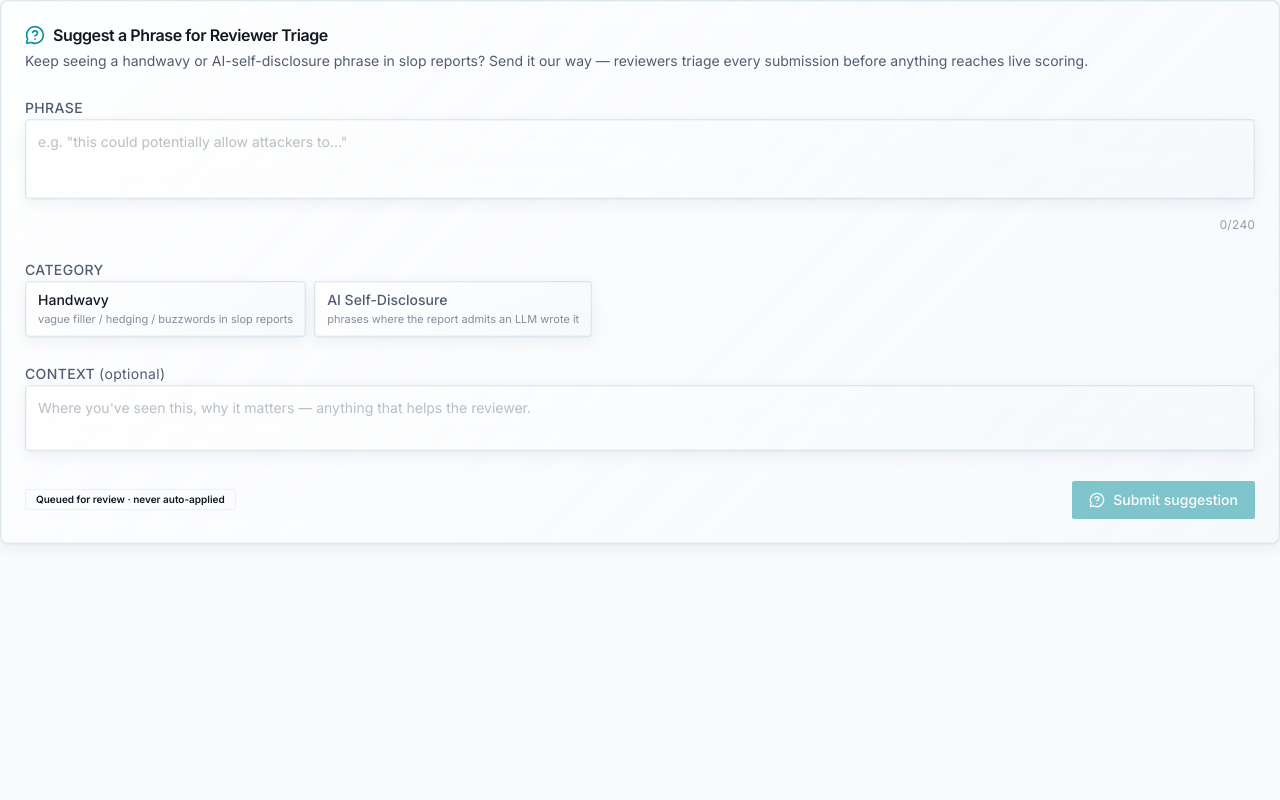
Test: PhraseSuggestionForm › submits the trimmed text + selected category and renders the thank-you panel on success
Type "  leverages cutting-edge synergy  " into the text box with test id "phrase-suggestion-text" at (640, 159), box left=25, top=119, right=1255, bottom=199
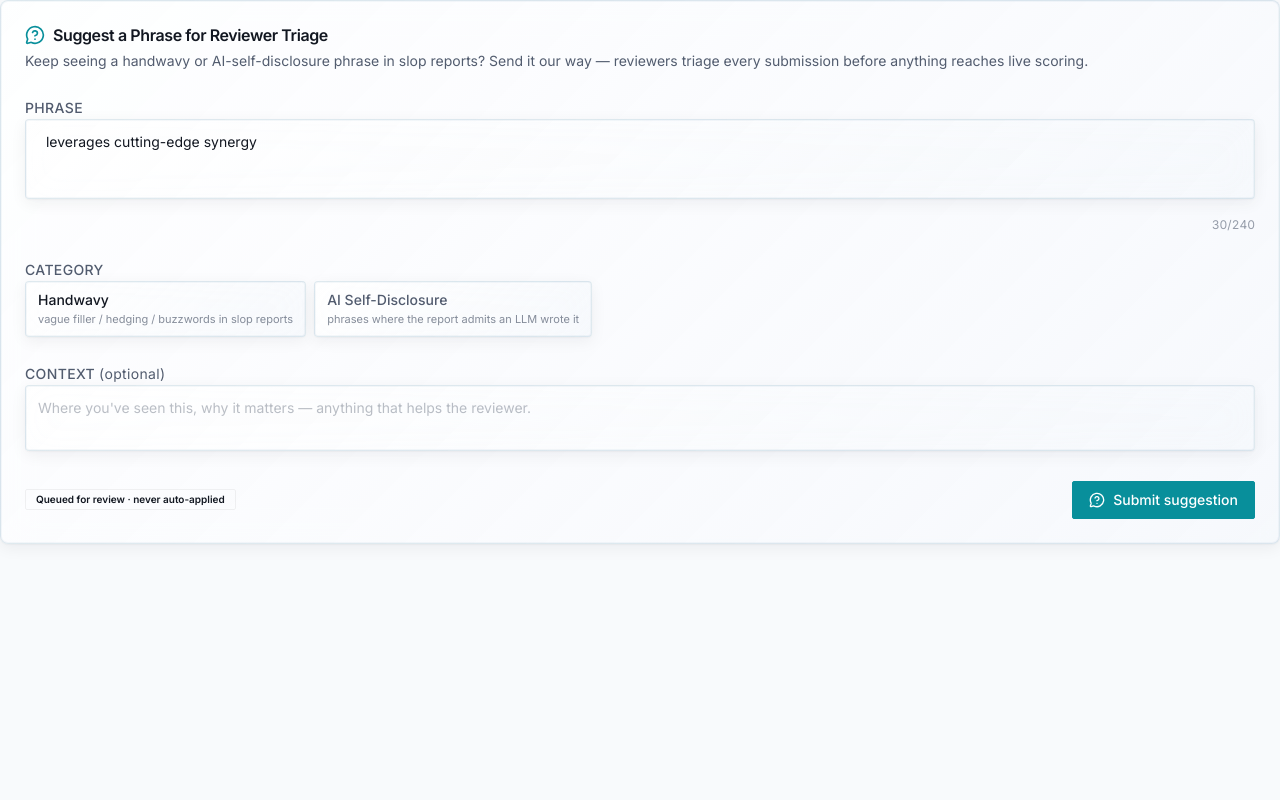
Click the button with test id "phrase-suggestion-category-ai-self-disclosure" at (387, 300), box left=314, top=281, right=592, bottom=337
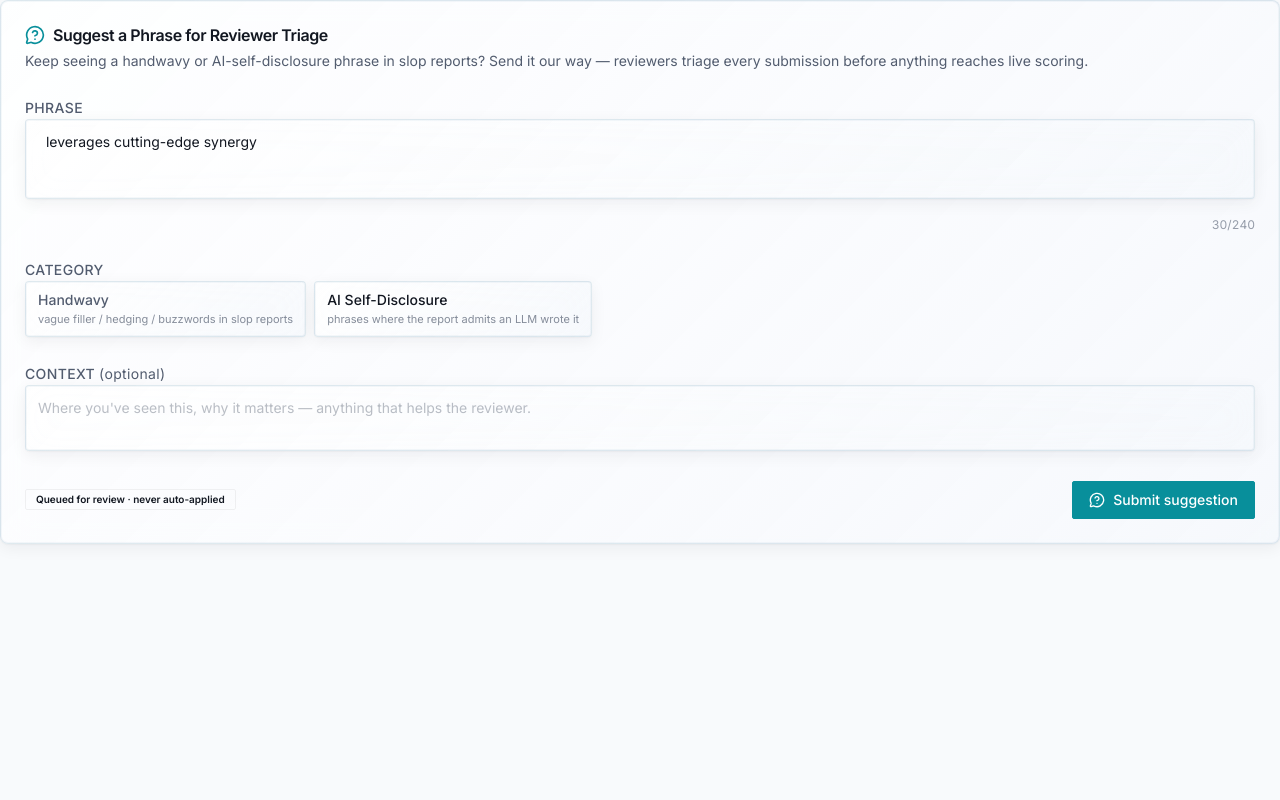
Replace the text in the text box with test id "phrase-suggestion-context" with "saw it in three reports" at (640, 418), box left=25, top=385, right=1255, bottom=451
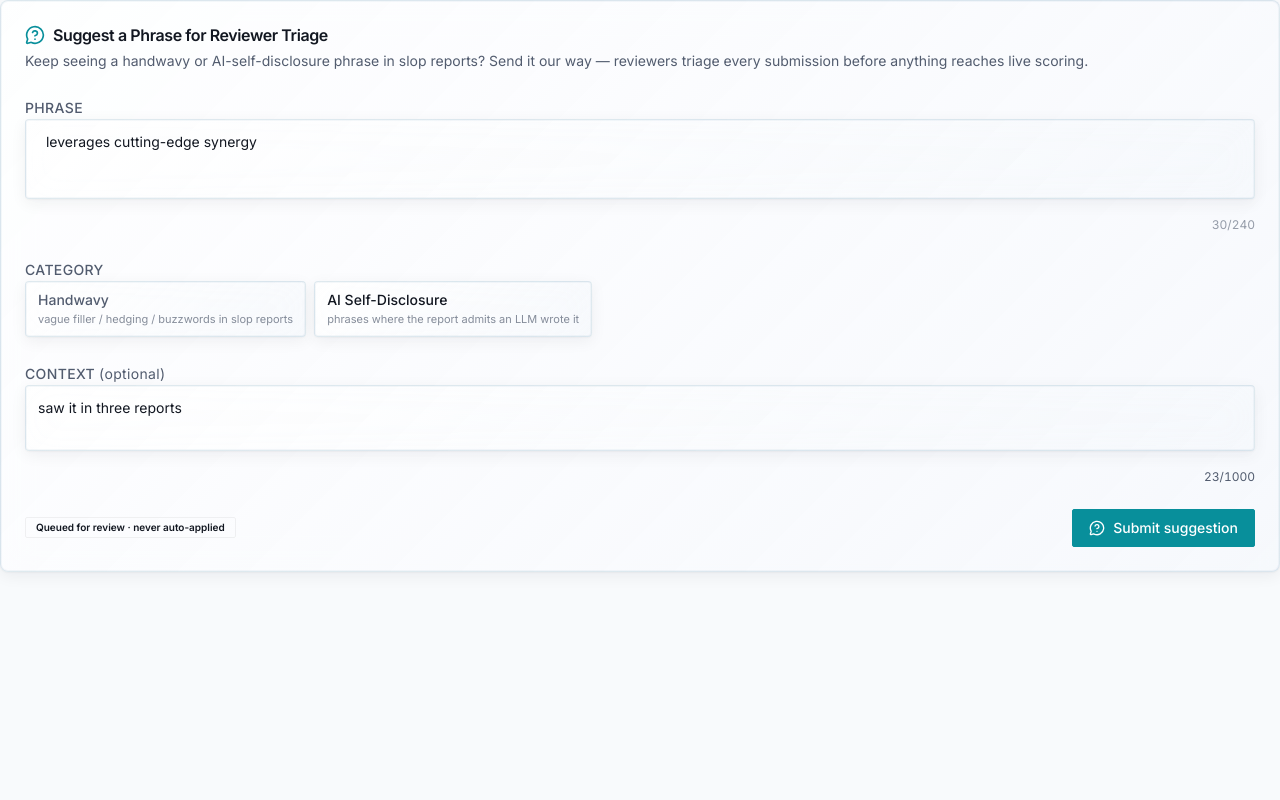
Click the button with test id "phrase-suggestion-submit" at (1164, 528), box left=1072, top=509, right=1255, bottom=547
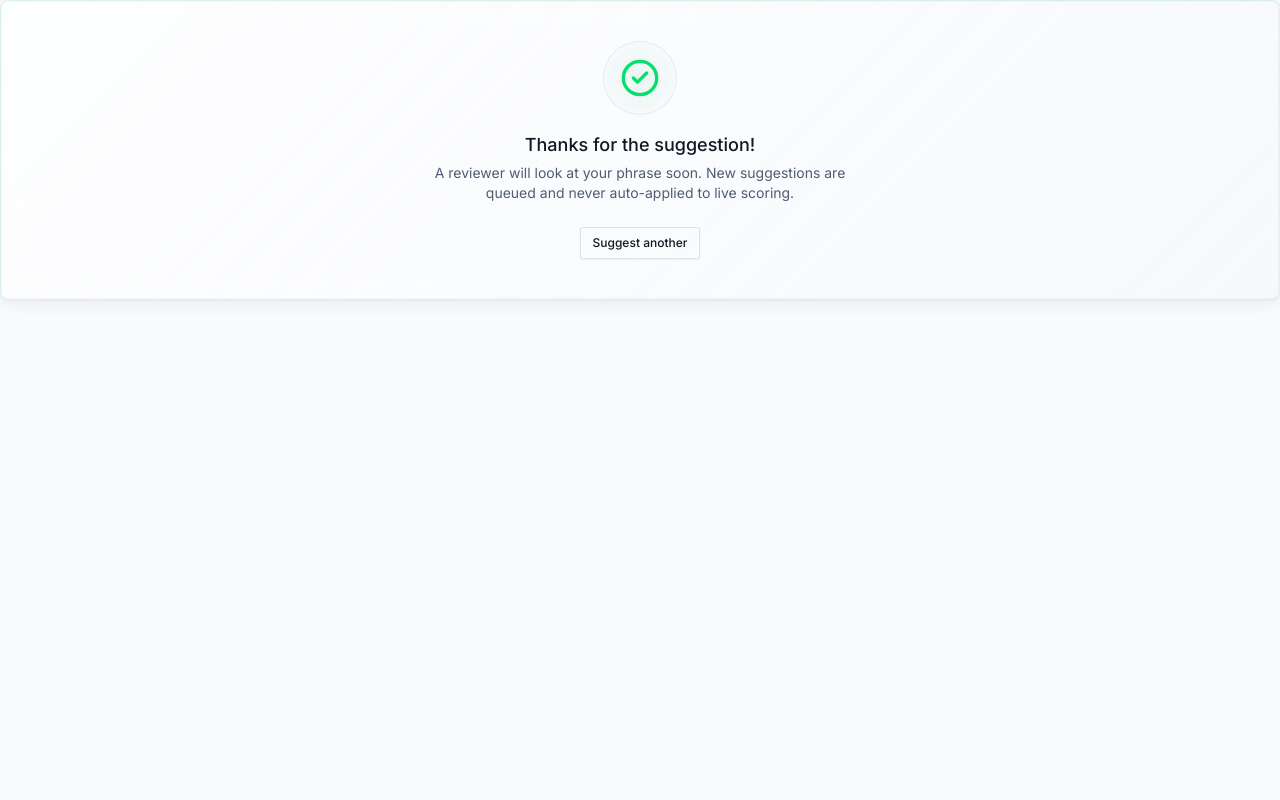
Expected: the element with test id "phrase-suggestion-form-success" is shown, left=0, top=0, right=1279, bottom=300
